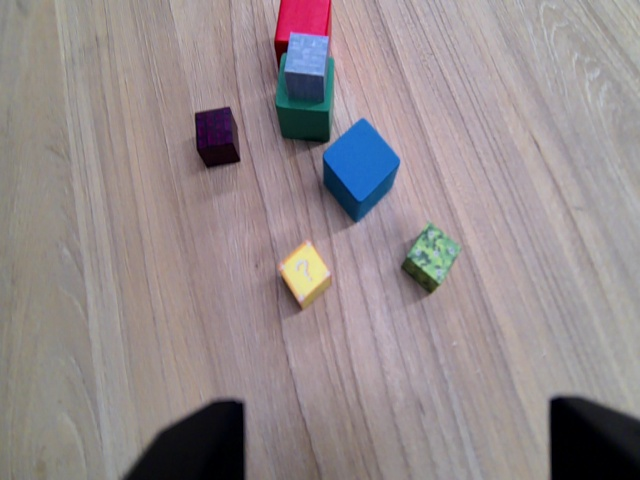brick: (191, 109, 243, 163)
grass: (410, 219, 458, 288)
lucky: (280, 240, 333, 311)
stone: (285, 30, 327, 98)
